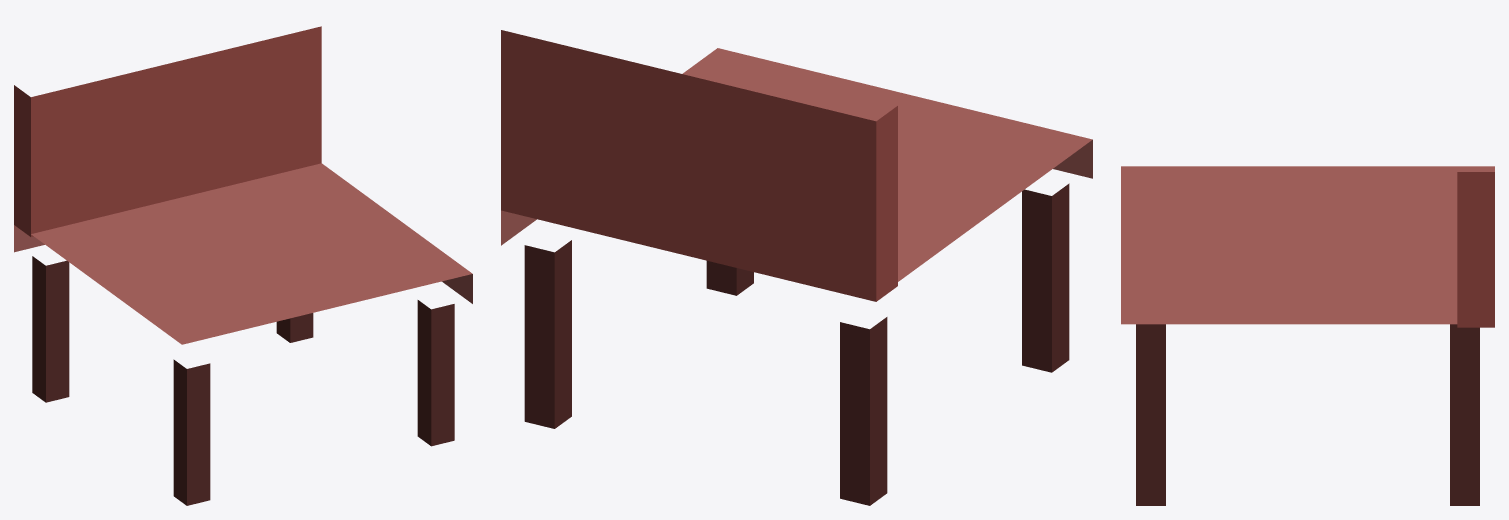
Rendered from Chair-red.glb.
The picture shows the model from 3 angles, left to right: view 1: azimuth 30°, elevation 25°; view 2: azimuth 150°, elevation 25°; view 3: azimuth 270°, elevation 25°; orthographic projection. The views are drawn at different scales.
Parts seen in each view (by area): view 1: Chair; view 2: Chair; view 3: Chair.
Boxes of the visible parts, x1,y1,x2,y2 form: Chair: [14, 26, 472, 505]; Chair: [501, 30, 1092, 505]; Chair: [1121, 166, 1494, 505].
Size of the model in its own units: 1 by 1 by 1.
